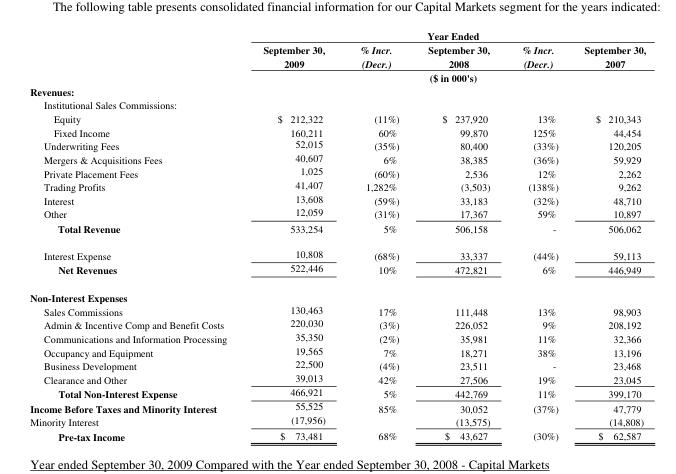table: (29, 28, 645, 443)
table column: (29, 28, 244, 443), (244, 28, 342, 443), (413, 28, 505, 443), (570, 28, 645, 443), (342, 28, 413, 443), (505, 28, 570, 443)
table column header: (29, 28, 645, 84)
table projected row header: (29, 283, 645, 303), (29, 84, 645, 98), (29, 98, 645, 111)
table row: (29, 42, 645, 70), (29, 261, 645, 283), (29, 240, 645, 261), (29, 220, 645, 240), (29, 283, 645, 303), (29, 205, 645, 220), (29, 413, 645, 428), (29, 428, 645, 443), (29, 28, 645, 42), (29, 70, 645, 84), (29, 84, 645, 98), (29, 137, 645, 151), (29, 164, 645, 178), (29, 178, 645, 192), (29, 316, 645, 330), (29, 343, 645, 357), (29, 357, 645, 371), (29, 371, 645, 385), (29, 385, 645, 399), (29, 399, 645, 413), (29, 98, 645, 111), (29, 111, 645, 124), (29, 124, 645, 137), (29, 151, 645, 164), (29, 192, 645, 205), (29, 303, 645, 316), (29, 330, 645, 343)
table spanning cell: (244, 28, 645, 42), (244, 70, 645, 84)
